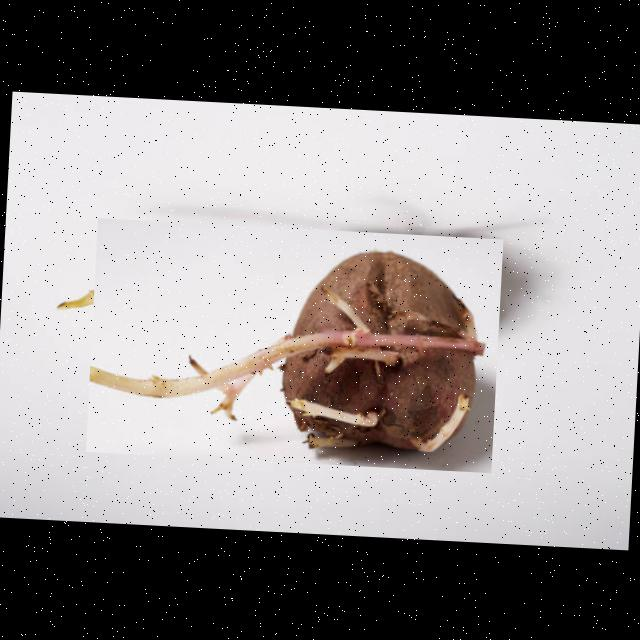Sprouted potato: (85, 217, 502, 472)
